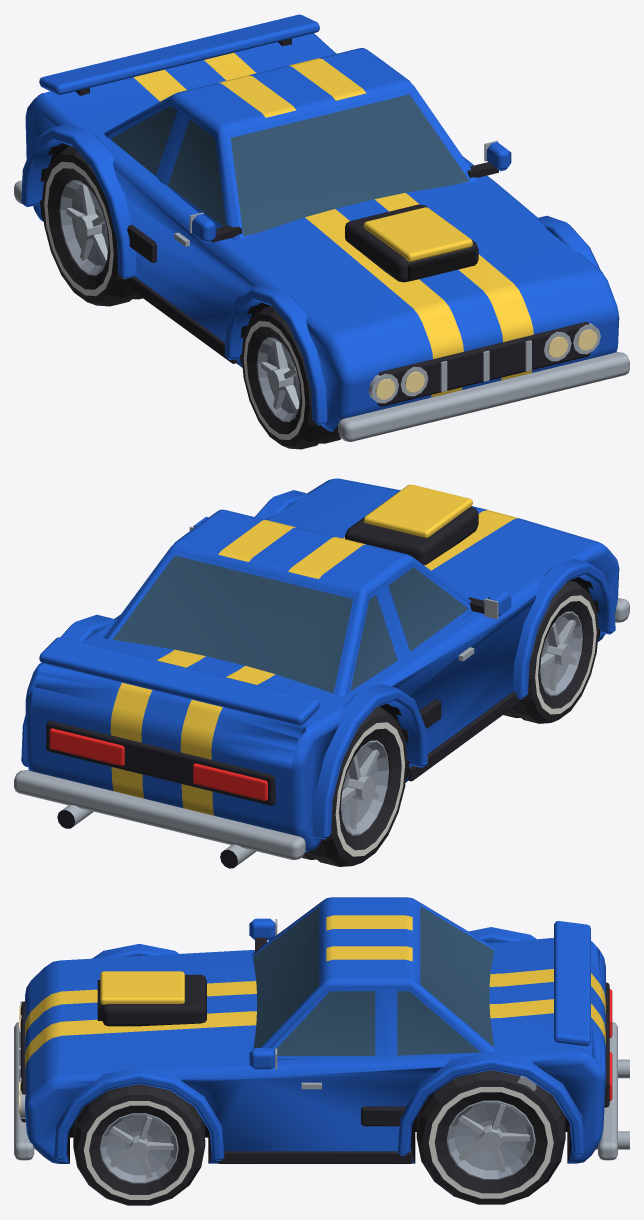
3 views of the same model, one above another, from view 1: azimuth 30°, elevation 25°; view 2: azimuth 150°, elevation 25°; view 3: azimuth 270°, elevation 25° (orthographic). The views are drawn at different scales.
Visible parts, largest first — view 1: muscle_body, wheel_RR, wheel_FR; view 2: muscle_body, wheel_RR, wheel_FR; view 3: muscle_body, wheel_RL, wheel_FL.
Boxes of the visible parts, <box> form: muscle_body: <box>14,14,629,441</box>; wheel_RR: <box>42,146,142,306</box>; wheel_FR: <box>241,306,341,449</box>; muscle_body: <box>14,478,629,868</box>; wheel_RR: <box>301,706,407,866</box>; wheel_FR: <box>503,580,598,723</box>; muscle_body: <box>14,897,629,1163</box>; wheel_RL: <box>416,1070,565,1204</box>; wheel_FL: <box>73,1084,205,1205</box>.
Size of the model in its own units: 1.91 by 1.35 by 3.64.
Materials: 1 (1 with a texture image).
